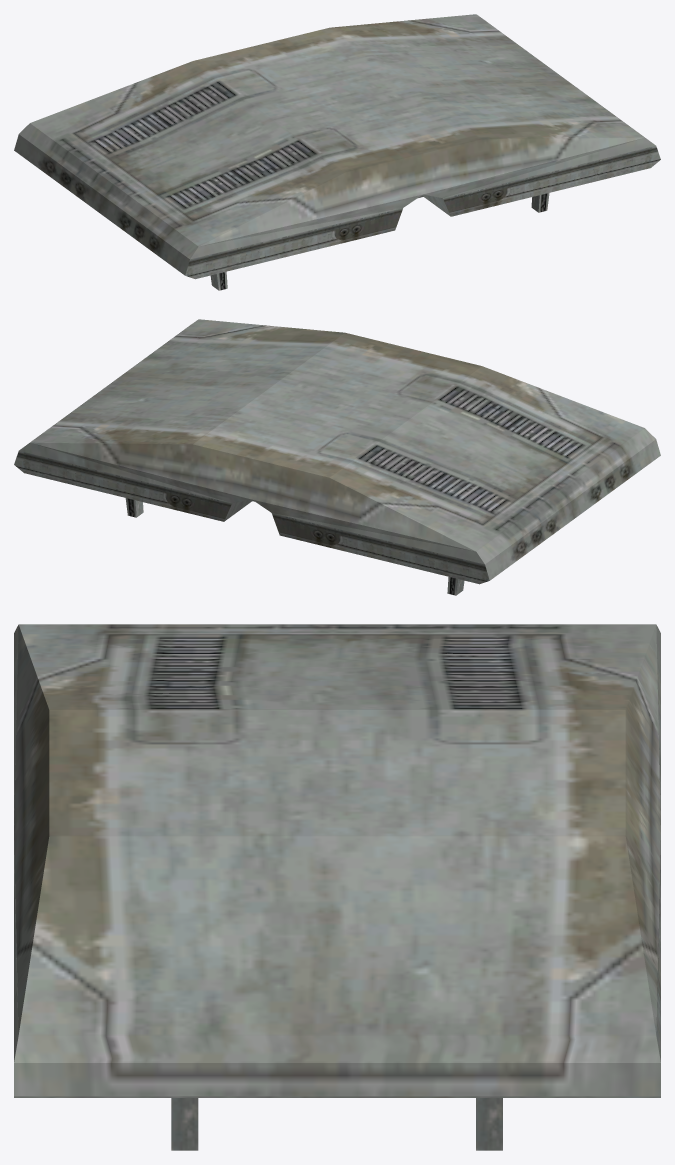
File: ins_all_min_liquid_s01_u0_pedal_l0.fbx
3 renders of one model, top to bottom at view 1: azimuth 30°, elevation 25°; view 2: azimuth 150°, elevation 25°; view 3: azimuth 270°, elevation 25°, orthographic. The views are drawn at different scales.
Visible parts, largest first — view 1: mesh_node; view 2: mesh_node; view 3: mesh_node.
Boxes of the visible parts, x1=… form: mesh_node: x1=14, y1=14, x2=660, y2=290; mesh_node: x1=14, y1=319, x2=660, y2=595; mesh_node: x1=14, y1=624, x2=660, y2=1150.
Bounding box in the file's own units: 6.95 × 1.66 × 4.33.
